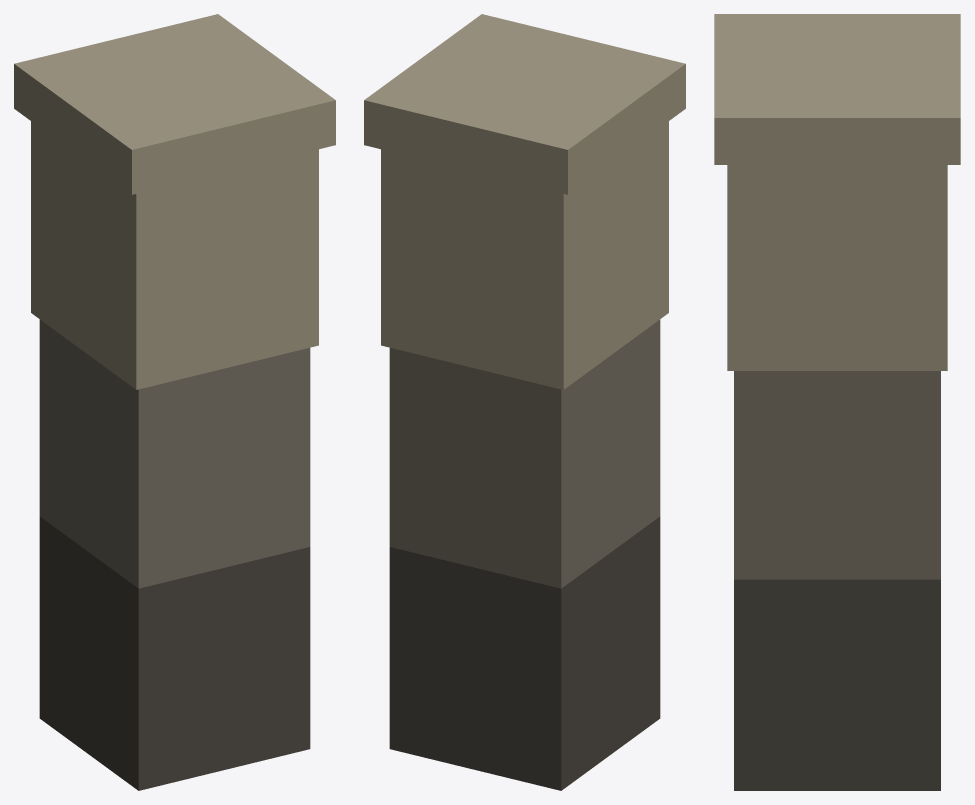
The model's file is TW_STONE_END_CAP_A_LOD0.glb.
The picture shows the model from 3 angles, left to right: view 1: azimuth 30°, elevation 25°; view 2: azimuth 150°, elevation 25°; view 3: azimuth 270°, elevation 25°; orthographic projection. The views are drawn at different scales.
Parts seen in each view (by area): view 1: TW_STONE_END_CAP_A_LOD0; view 2: TW_STONE_END_CAP_A_LOD0; view 3: TW_STONE_END_CAP_A_LOD0.
Part boxes in pixels (x1=…): TW_STONE_END_CAP_A_LOD0: x1=14, y1=14, x2=335, y2=790; TW_STONE_END_CAP_A_LOD0: x1=364, y1=14, x2=685, y2=790; TW_STONE_END_CAP_A_LOD0: x1=714, y1=14, x2=960, y2=790.
Bounding box in the file's own units: 0.38 × 1.16 × 0.38.
1 material, 1 textured.
